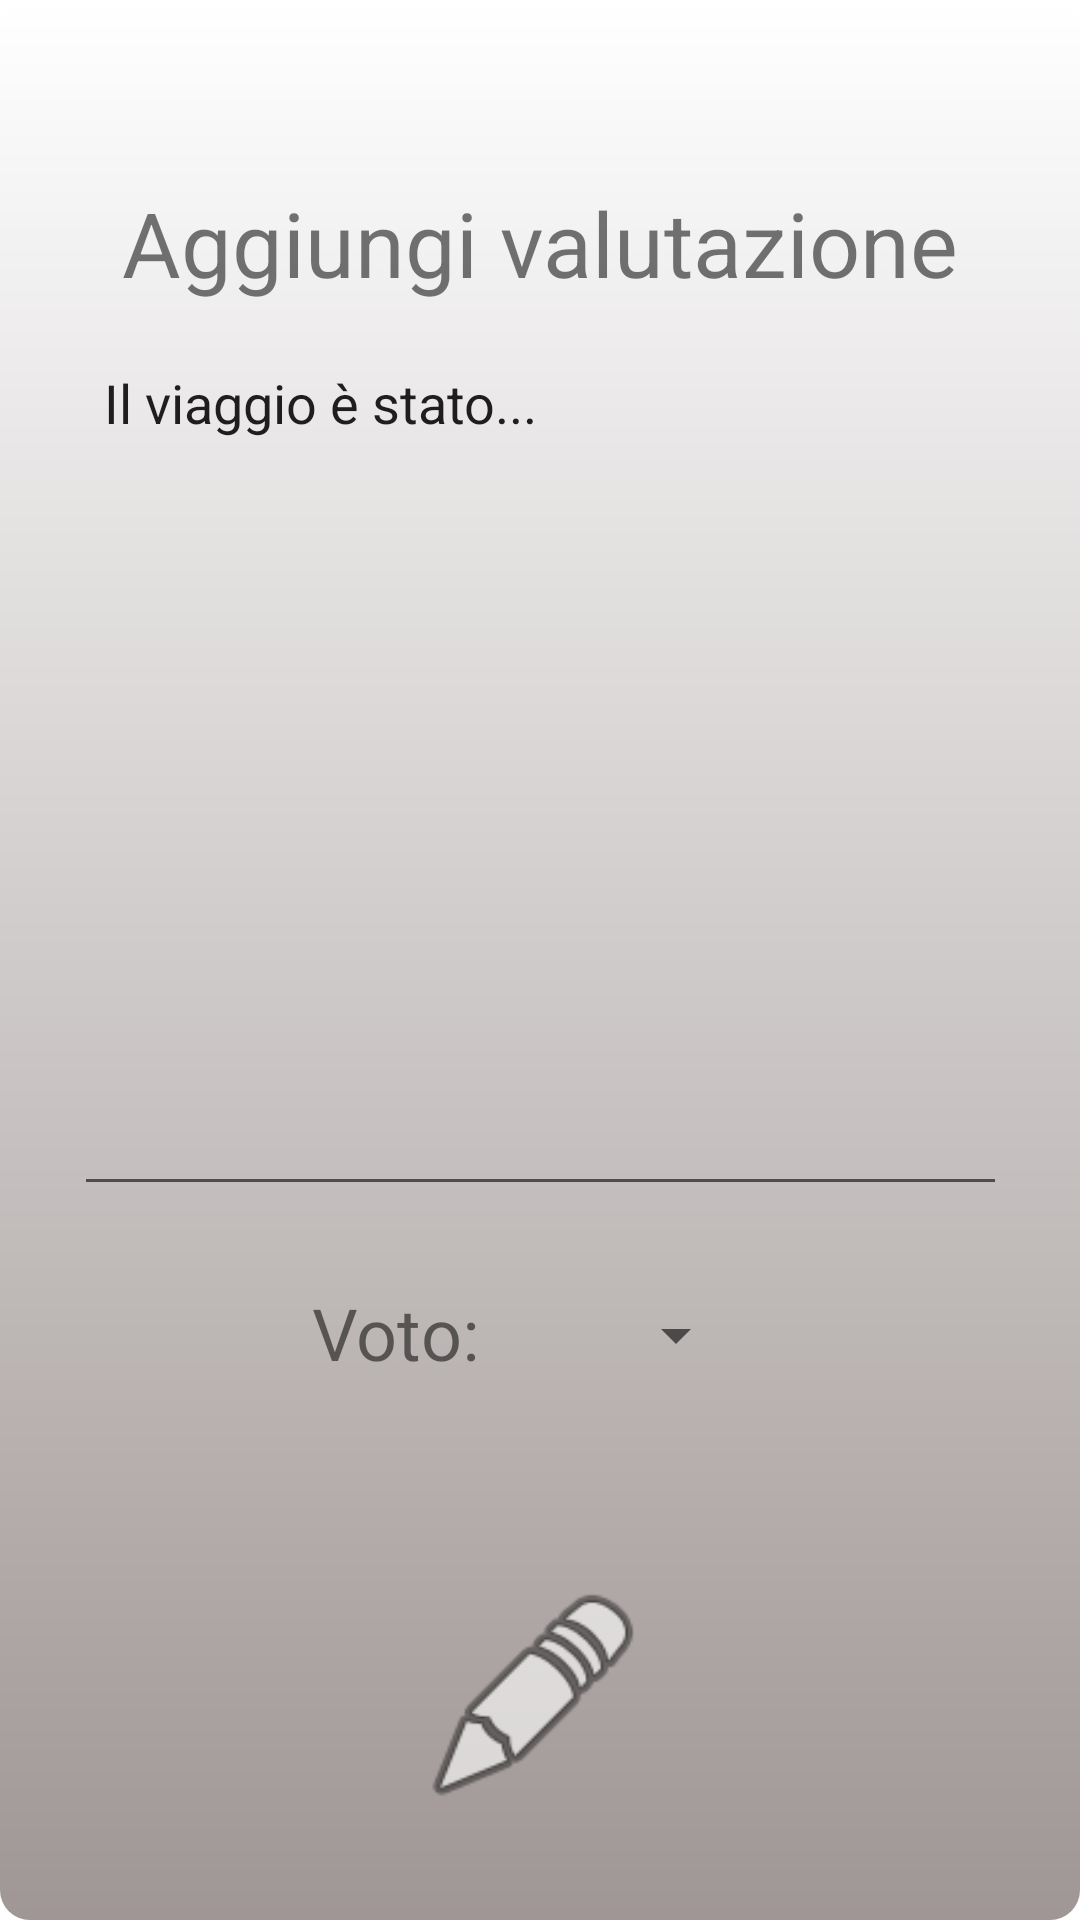

Icons on this 1080px×1920px Android screen, each with the point to tap as (x=x, y=y):
edit: (x=533, y=1695)
